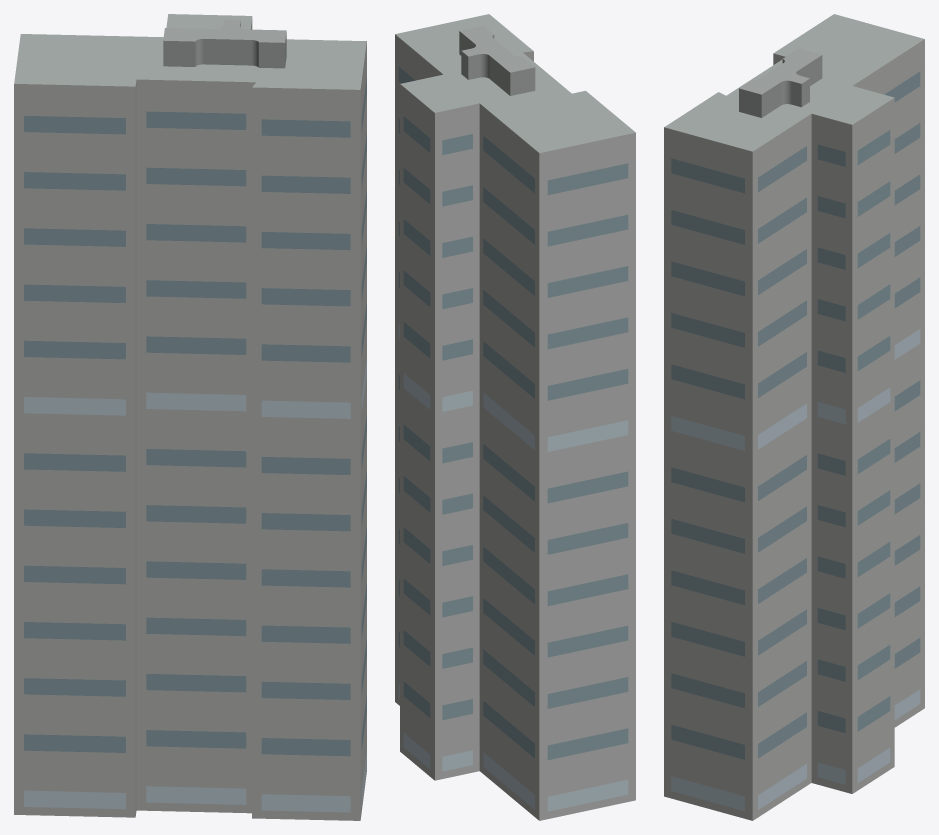
The model's file is fallback-lake-palace-127.glb.
The picture shows the model from 3 angles, left to right: view 1: azimuth 30°, elevation 25°; view 2: azimuth 150°, elevation 25°; view 3: azimuth 270°, elevation 25°; orthographic projection. The views are drawn at different scales.
Visible parts, largest first — view 1: fallback-lake-palace-127; view 2: fallback-lake-palace-127; view 3: fallback-lake-palace-127.
Part boxes in pixels (bbox=[...]): fallback-lake-palace-127: bbox=[14, 14, 366, 820]; fallback-lake-palace-127: bbox=[395, 14, 635, 820]; fallback-lake-palace-127: bbox=[664, 14, 924, 820].
Size of the model in its own units: 30.27 by 71 by 24.22.
